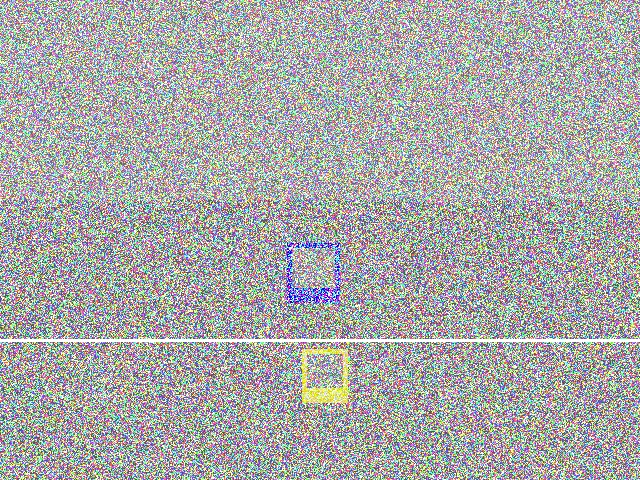bus: (266, 126, 350, 208)
